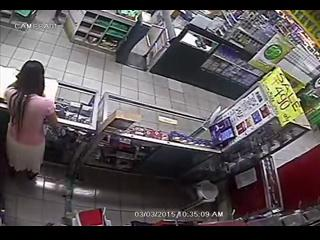Normal: (5, 60, 64, 180)
